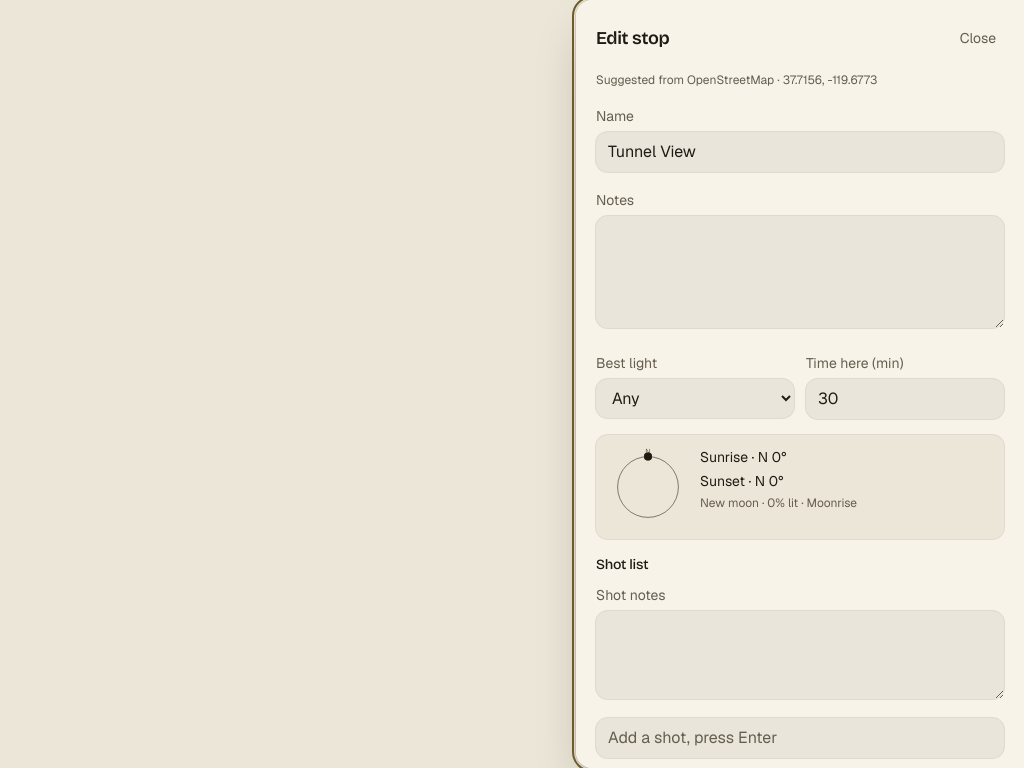
StopDrawer › shows save errors and stays open
The width and height of the screenshot is (1024, 768).
In the field labelled "Name": (800, 152) x1=596 y1=132 x2=1004 y2=172, type "!"
(page scrolled)
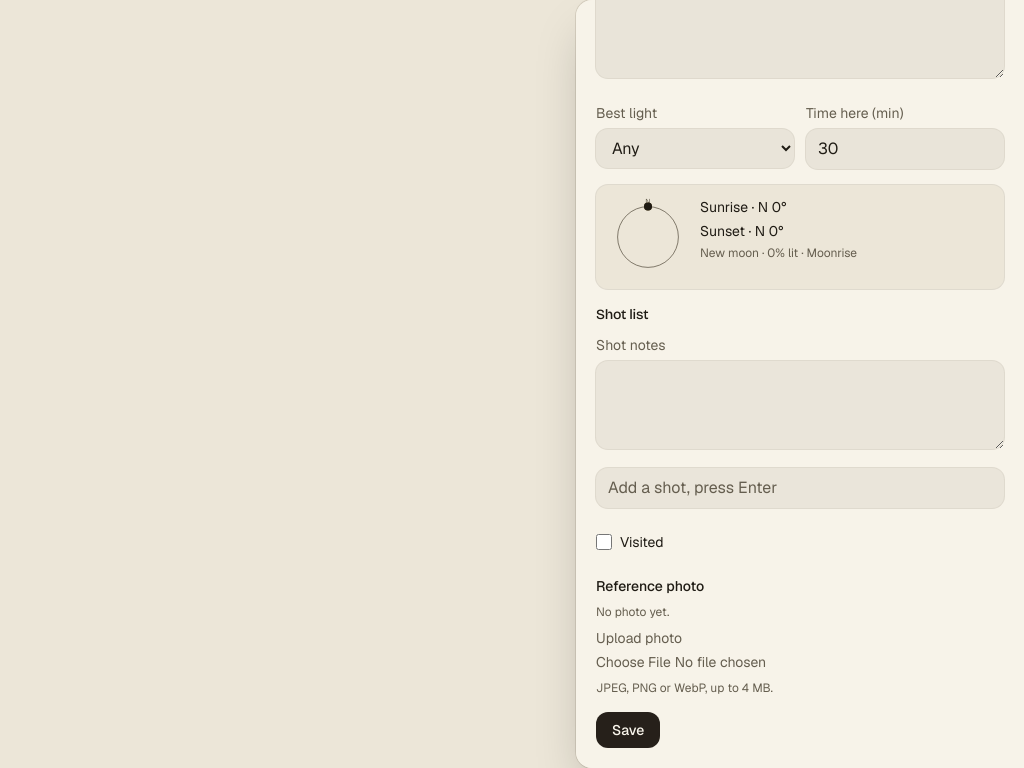
Click the button "Save": (628, 730) x1=596 y1=712 x2=660 y2=748
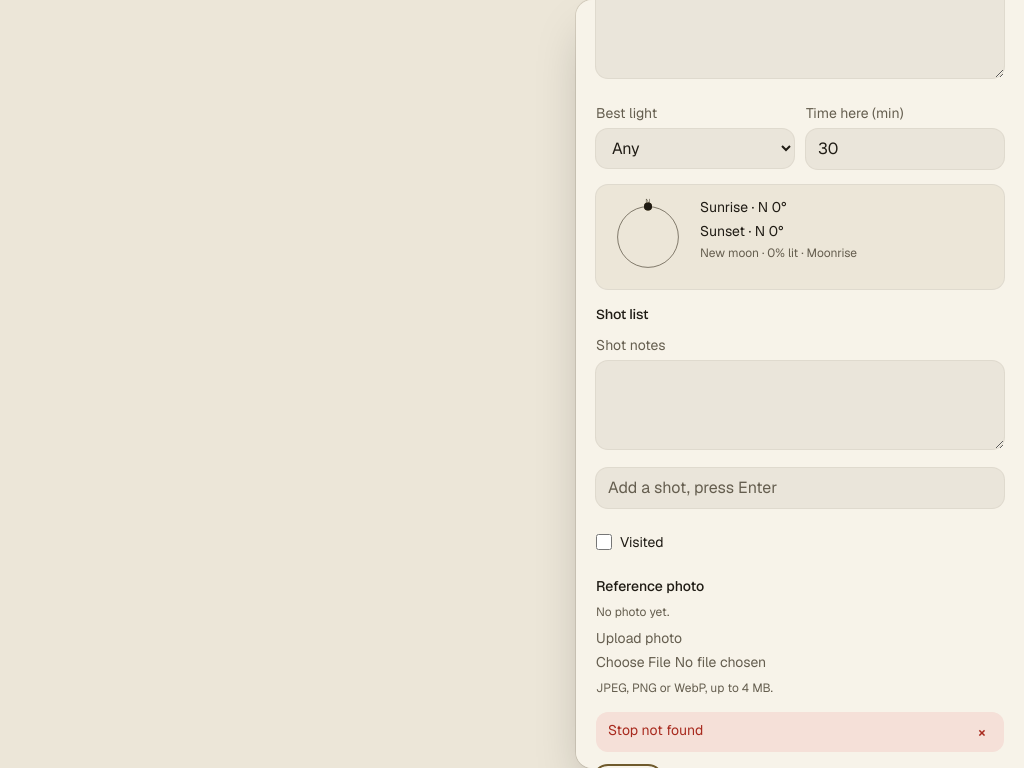
Now the message shows "Stop not found", box x1=608 y1=721 x2=703 y2=739
